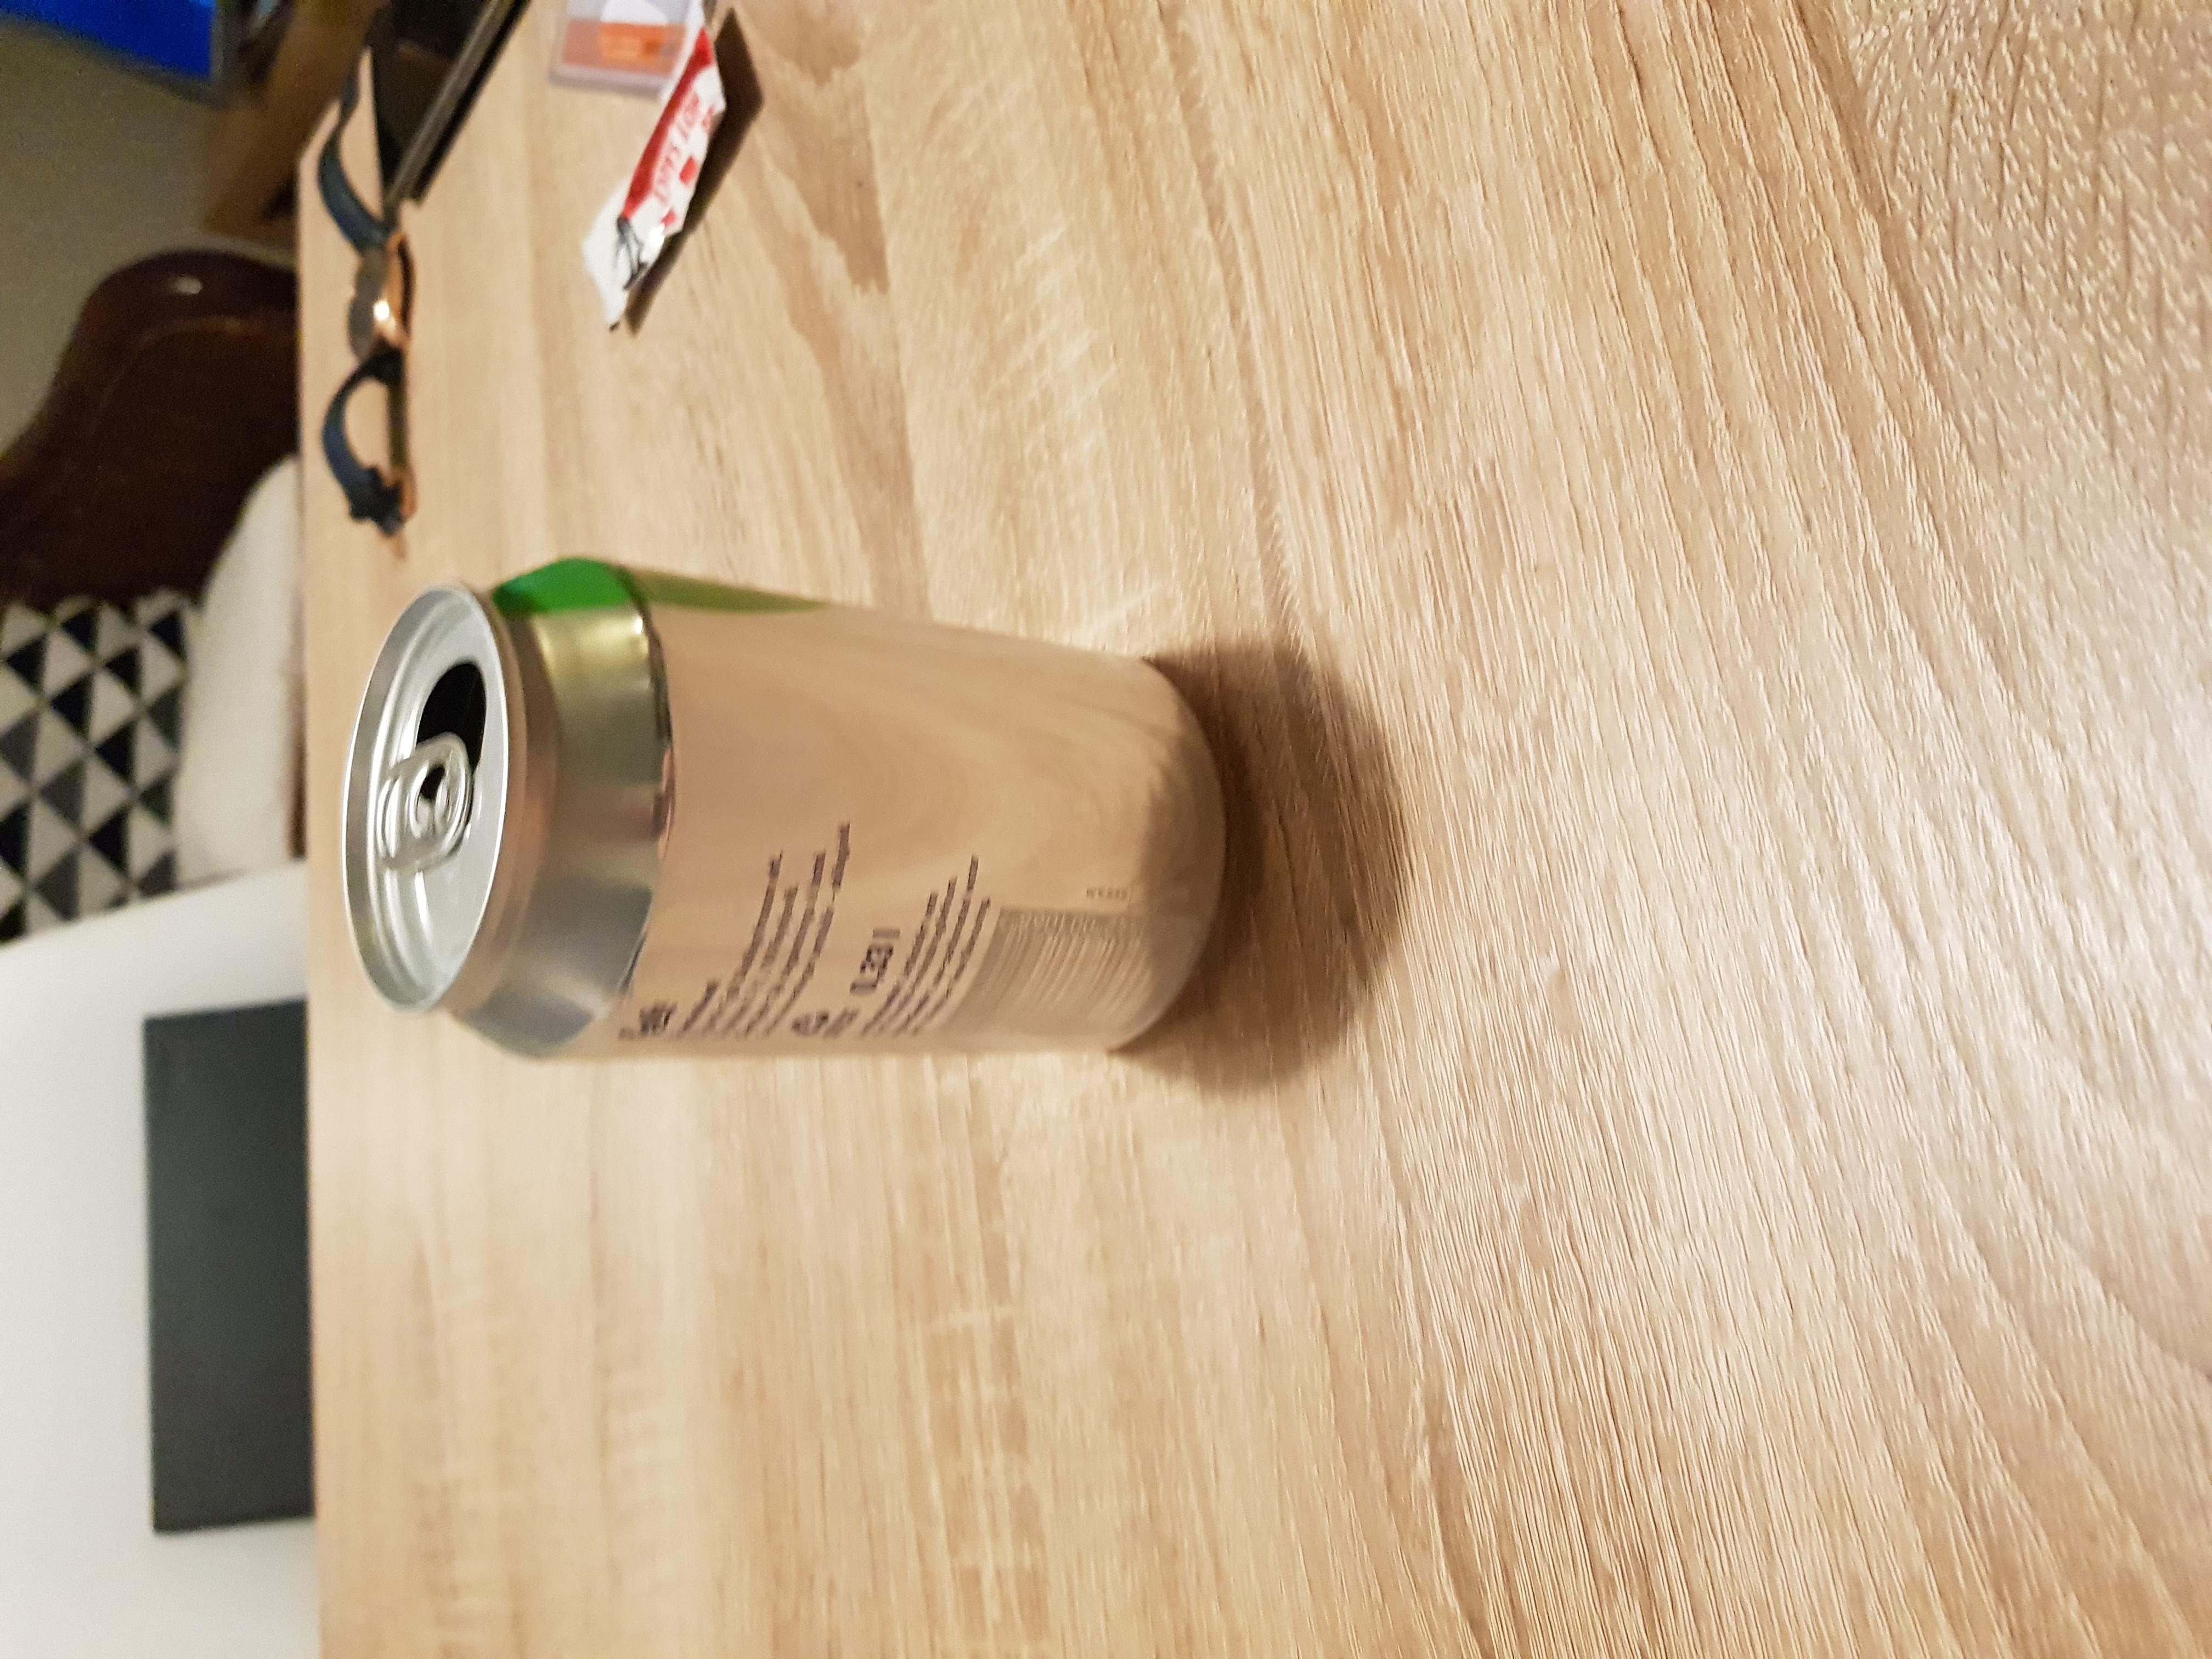can: (347, 535, 812, 1093)
